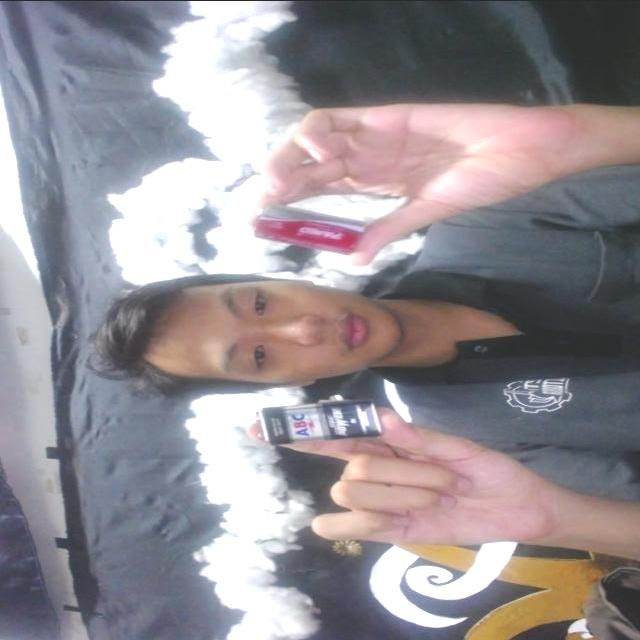9V: (238, 208, 402, 260), (240, 391, 384, 448)
